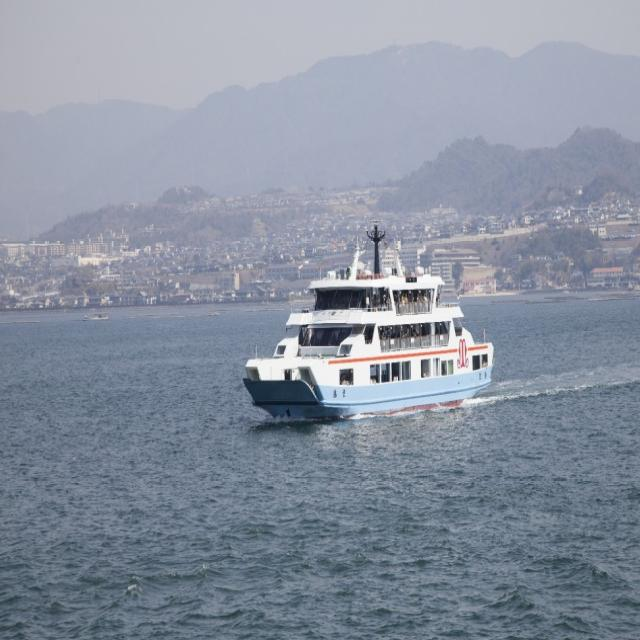passenger ship: (246, 177, 516, 424)
